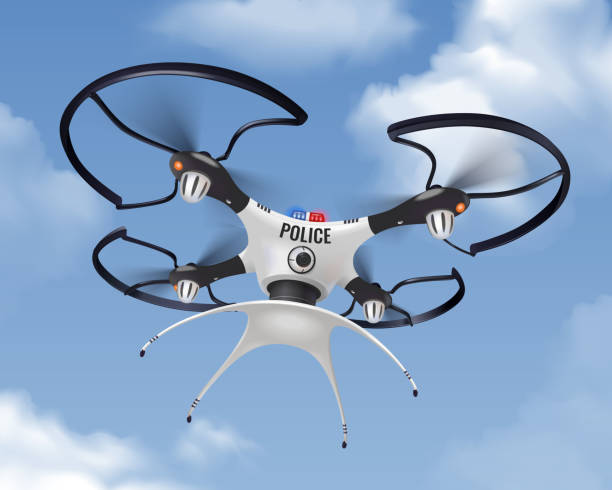Drone: (58, 59, 575, 336)
